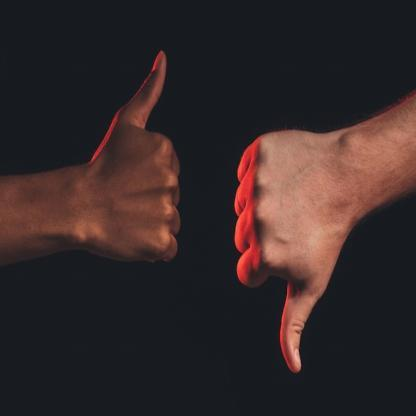thumb_down: (230, 120, 341, 375)
thumb_up: (84, 44, 183, 272)
